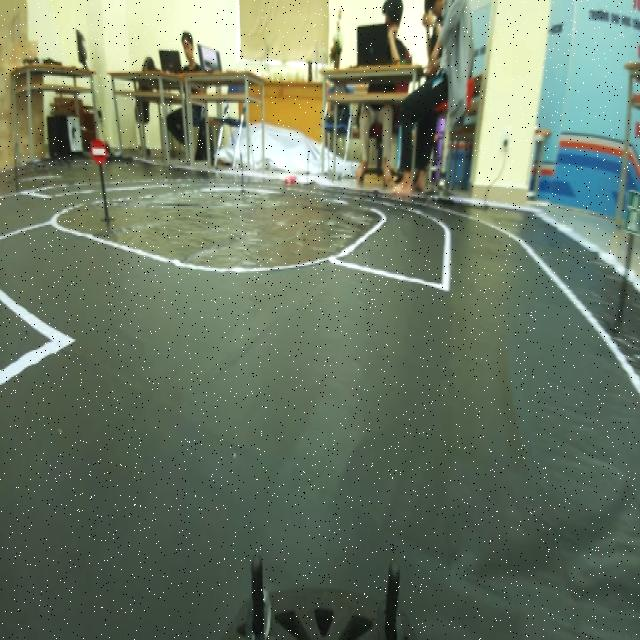highway_entry: (624, 186, 640, 237)
no_entry: (88, 137, 112, 169)
